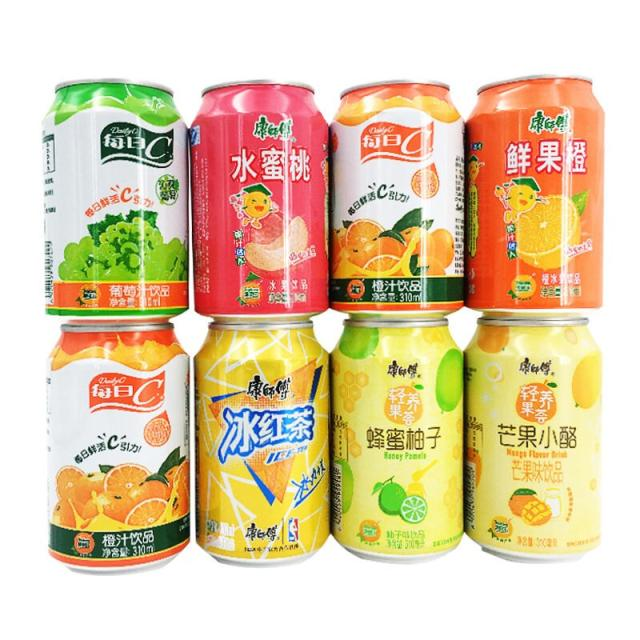can: (42, 322, 194, 580), (36, 75, 193, 322), (466, 70, 612, 316), (188, 76, 330, 324), (466, 319, 607, 566), (193, 322, 330, 572), (329, 74, 466, 319), (331, 321, 466, 566)
